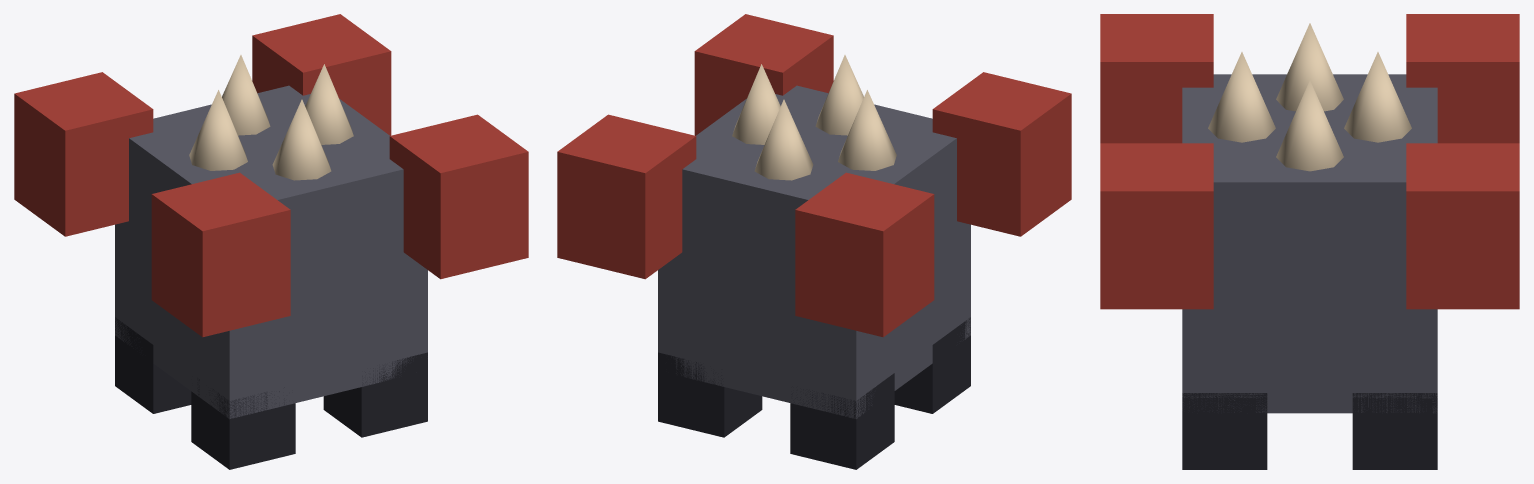
File: brute.glb
3 views of the same model, side by side, from view 1: azimuth 30°, elevation 25°; view 2: azimuth 150°, elevation 25°; view 3: azimuth 270°, elevation 25° (orthographic). The views are drawn at different scales.
Visible parts, largest first — view 1: brute; view 2: brute; view 3: brute.
Boxes of the visible parts, x1,y1,x2,y2 form: brute: [14, 14, 528, 469]; brute: [557, 14, 1071, 469]; brute: [1100, 14, 1519, 469].
Size of the model in its own units: 14.8 by 14.2 by 14.8.
1 material, 1 textured.
